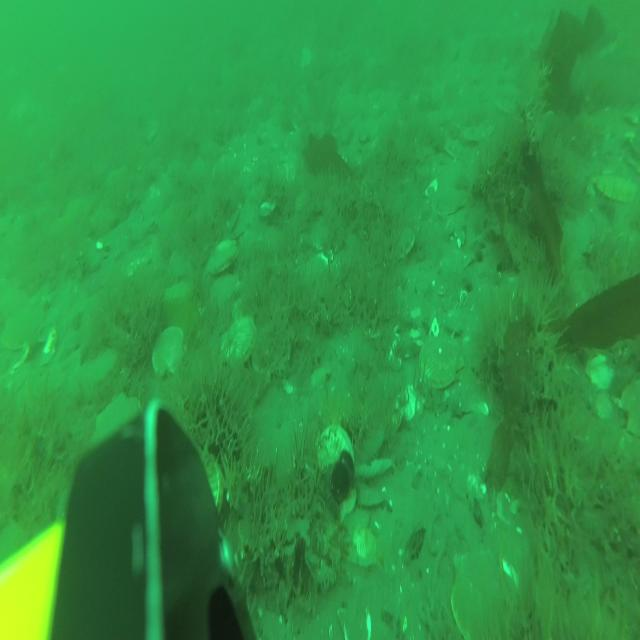scallop: (452, 549, 511, 640), (420, 328, 464, 392), (2, 294, 43, 354), (152, 330, 188, 383), (222, 313, 258, 366), (81, 346, 117, 394), (595, 168, 637, 206), (206, 237, 238, 276), (432, 183, 466, 219), (210, 274, 240, 313), (393, 224, 417, 260), (166, 279, 193, 310)
